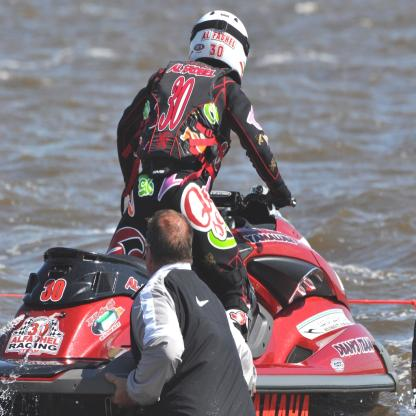Helmet: (193, 12, 246, 75)
